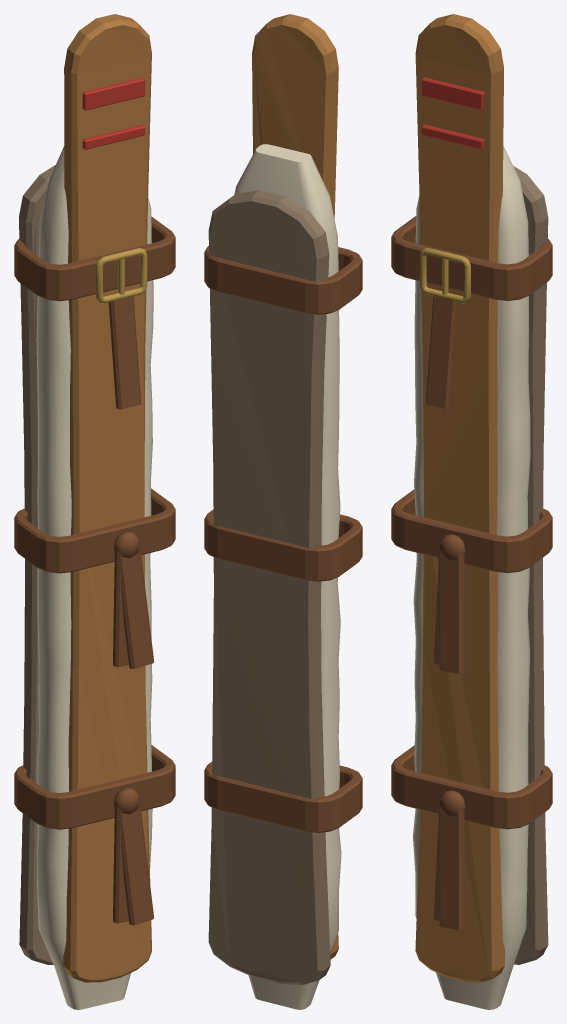
Rendered from tool_splint.fbx.
3 renders of one model, left to right at view 1: azimuth 30°, elevation 25°; view 2: azimuth 150°, elevation 25°; view 3: azimuth 330°, elevation 25°, orthographic.
Visible parts, largest first — view 1: Tool_Splint_SlatLong, Tool_Splint_Pad, Tool_Splint_Straps, Tool_Splint_Knots, Tool_Splint_SlatShort, Tool_Splint_Paint, Tool_Splint_Buckle; view 2: Tool_Splint_SlatShort, Tool_Splint_Straps, Tool_Splint_Pad, Tool_Splint_SlatLong; view 3: Tool_Splint_SlatLong, Tool_Splint_Pad, Tool_Splint_Straps, Tool_Splint_SlatShort, Tool_Splint_Knots, Tool_Splint_Paint, Tool_Splint_Buckle.
Boxes of the visible parts, left/top/right/bottom form: Tool_Splint_SlatLong: left=63, top=14, right=151, bottom=982; Tool_Splint_Pad: left=36, top=146, right=153, bottom=1009; Tool_Splint_Straps: left=14, top=216, right=175, bottom=829; Tool_Splint_Knots: left=108, top=296, right=154, bottom=925; Tool_Splint_SlatShort: left=19, top=165, right=55, bottom=964; Tool_Splint_Paint: left=82, top=77, right=145, bottom=149; Tool_Splint_Buckle: left=96, top=248, right=147, bottom=303; Tool_Splint_SlatShort: left=208, top=190, right=330, bottom=984; Tool_Splint_Straps: left=204, top=246, right=362, bottom=832; Tool_Splint_Pad: left=234, top=144, right=341, bottom=1009; Tool_Splint_SlatLong: left=252, top=14, right=338, bottom=959; Tool_Splint_SlatLong: left=415, top=14, right=504, bottom=982; Tool_Splint_Pad: left=413, top=146, right=530, bottom=1009; Tool_Splint_Straps: left=391, top=216, right=552, bottom=829; Tool_Splint_SlatShort: left=513, top=166, right=548, bottom=964; Tool_Splint_Knots: left=425, top=296, right=465, bottom=929; Tool_Splint_Paint: left=421, top=77, right=484, bottom=149; Tool_Splint_Buckle: left=419, top=247, right=470, bottom=303.
Bounding box in the file's own units: 8.88 × 61.93 × 6.66.
